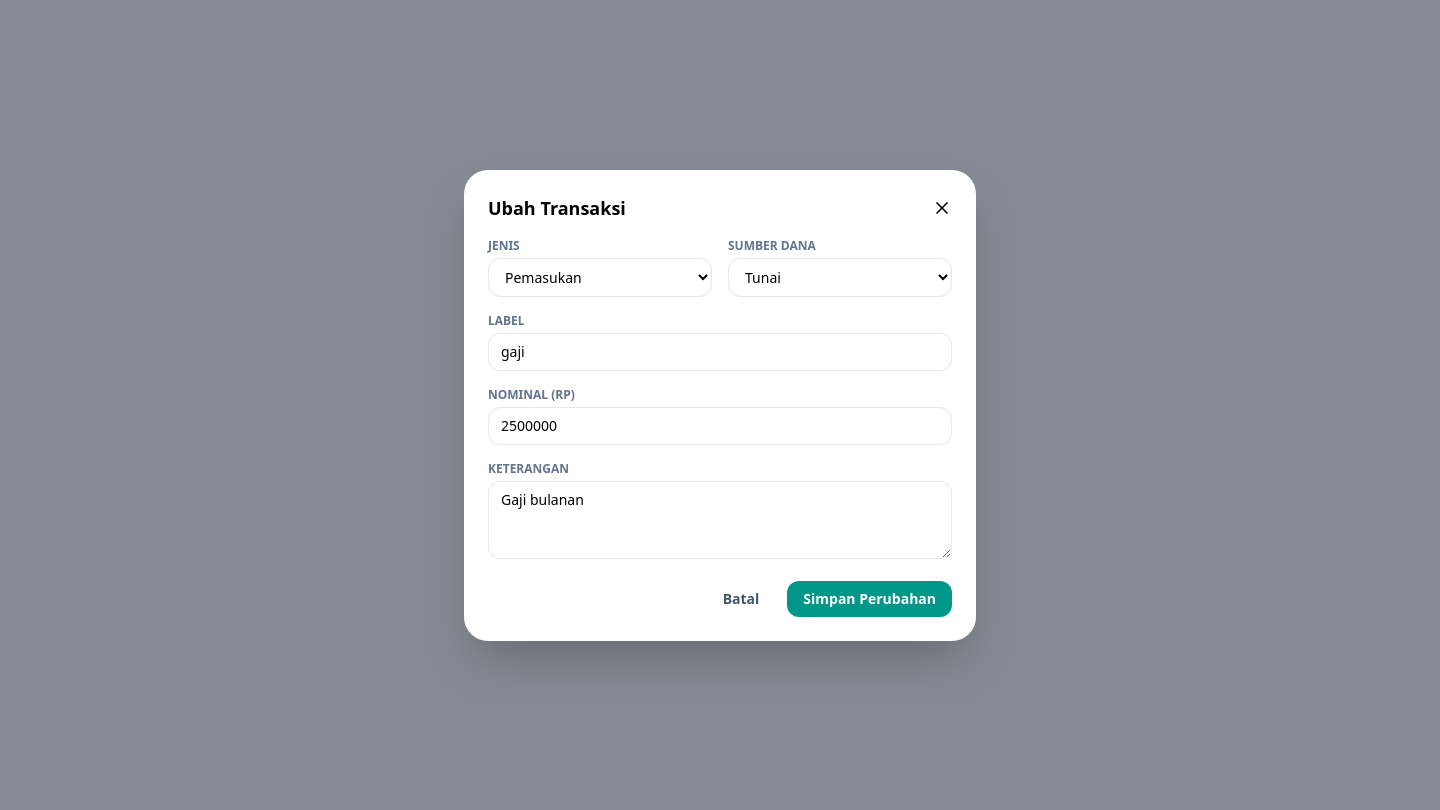
Test: ChangeModal › should require a nominal greater than zero
Replace the text in the number field with id "change-nominal" with "0" at (720, 426), box [488,406,952,444]
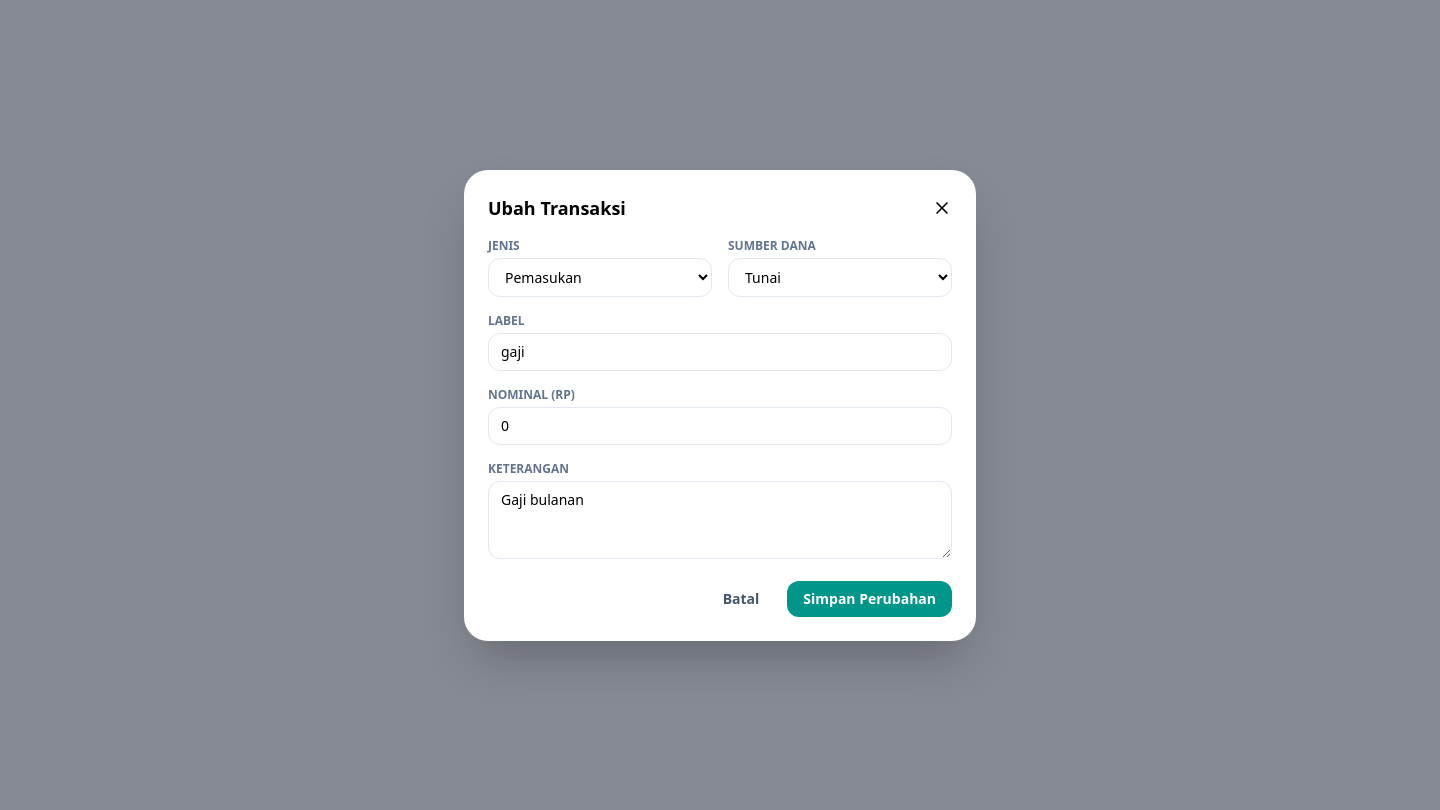
Submit the form, box [464,170,976,640]
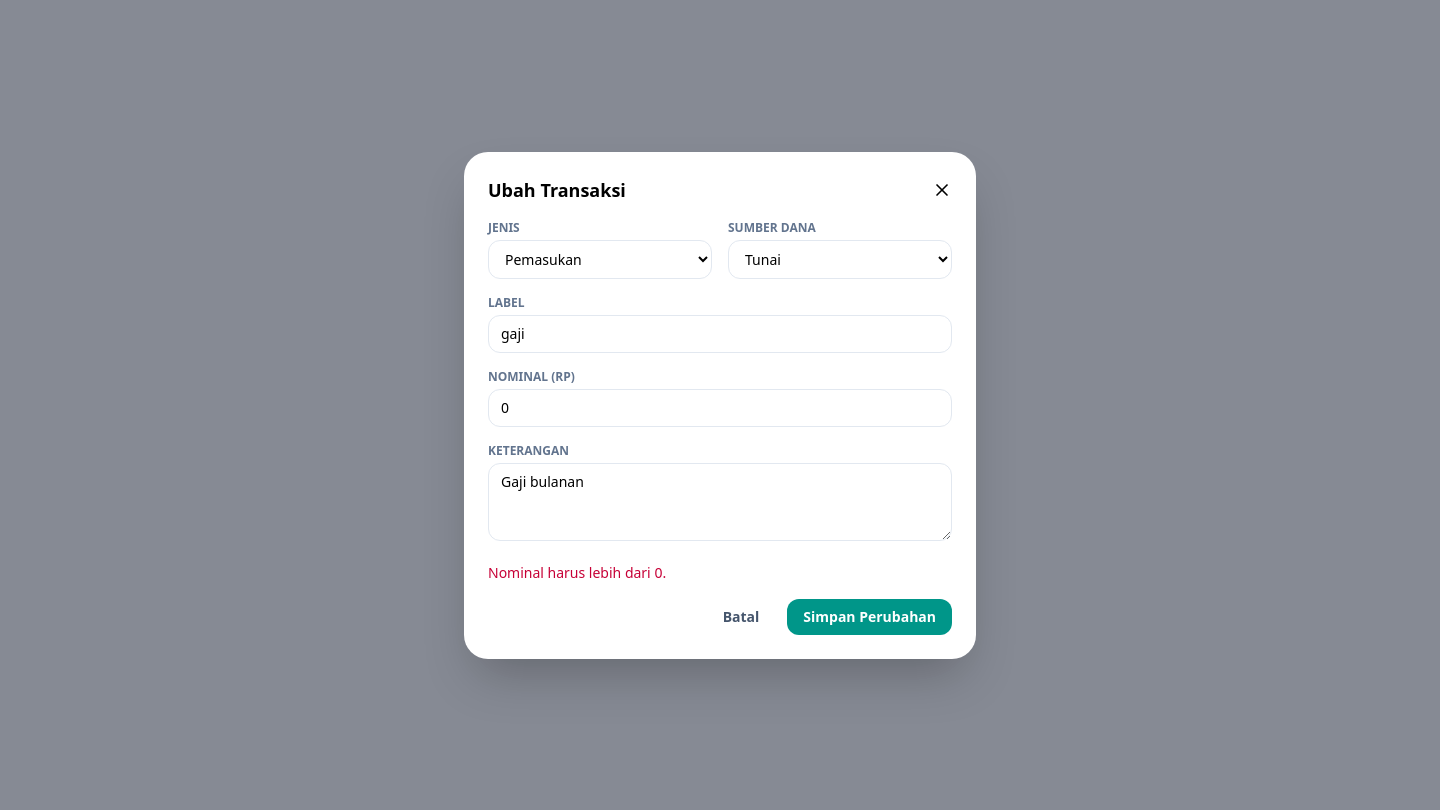
Now the text with test id "change-error" shows "Nominal harus lebih dari 0", box [488,562,666,582]
